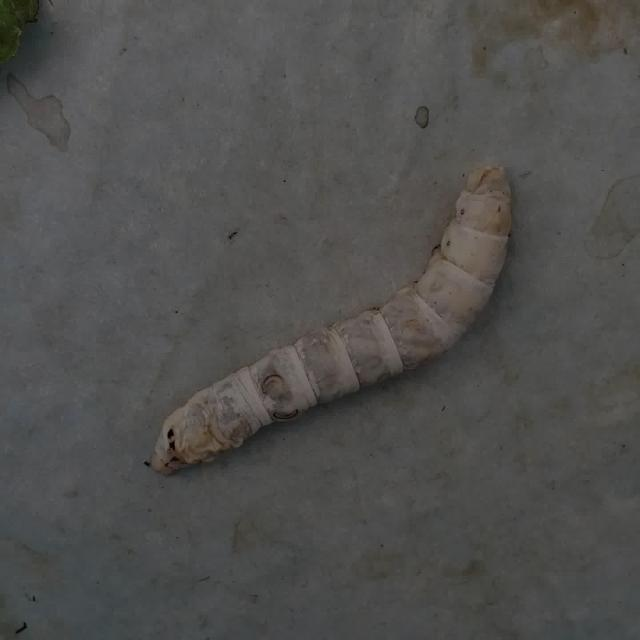Grasserie: (134, 157, 528, 481)
